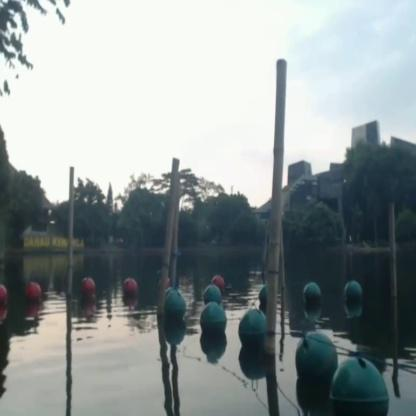green_buoy: (330, 356, 390, 414), (294, 330, 334, 384), (238, 308, 270, 358), (199, 300, 226, 342), (158, 290, 186, 326), (342, 276, 364, 312), (302, 276, 320, 310), (203, 284, 220, 302)
red_buoy: (78, 276, 96, 301), (122, 276, 138, 300), (28, 282, 42, 303), (212, 272, 226, 286), (0, 283, 6, 306)
